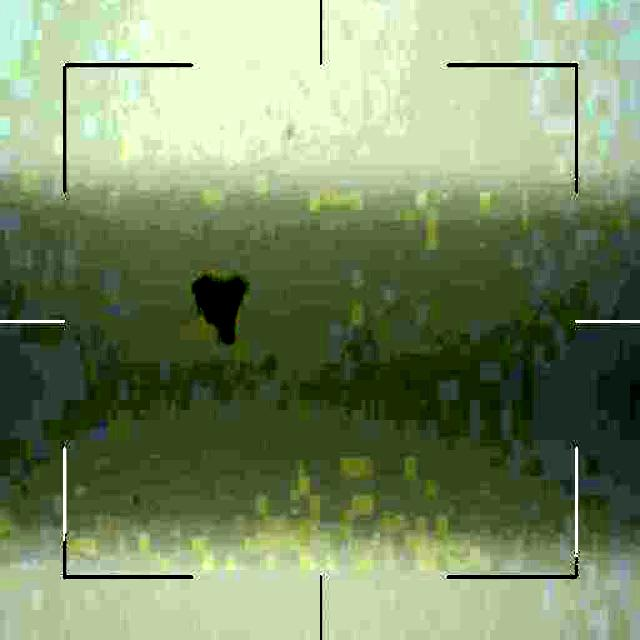bird: (189, 270, 249, 341)
